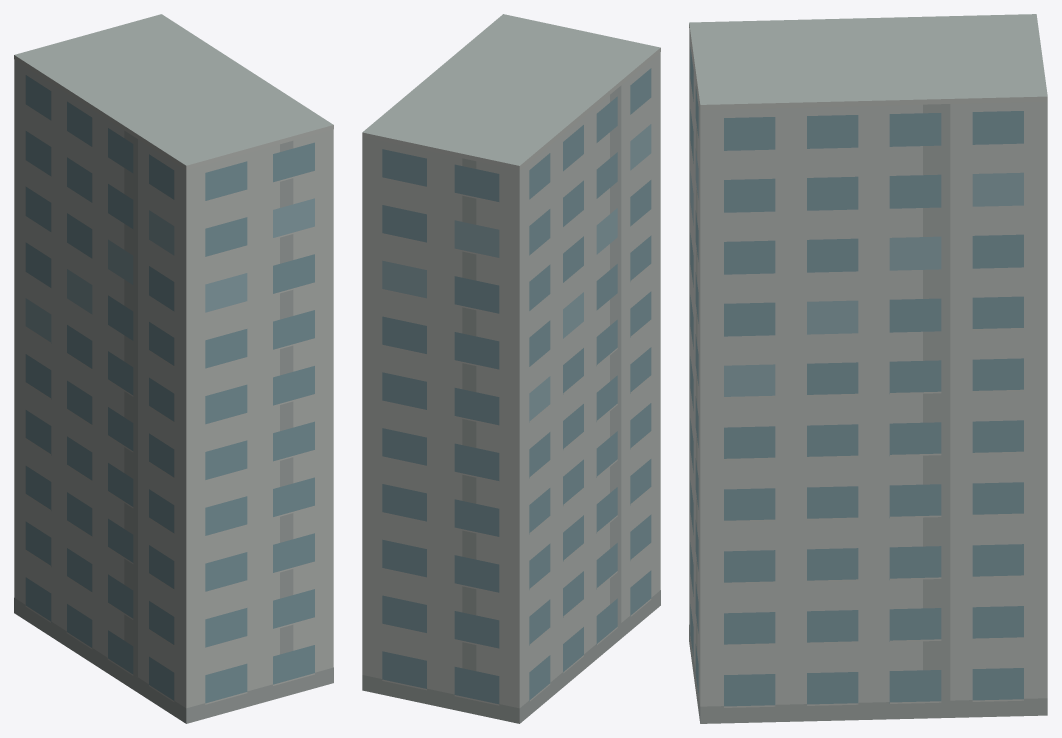
The model's file is residential-d6b64aef-a31e-4603-b0ee-0fd151b18bd7.glb.
The picture shows the model from 3 angles, left to right: view 1: azimuth 30°, elevation 25°; view 2: azimuth 150°, elevation 25°; view 3: azimuth 270°, elevation 25°; orthographic projection. The views are drawn at different scales.
Visible parts, largest first — view 1: residential-d6b64aef-a31e-4603-b0ee-0fd151b18bd7.tmp; view 2: residential-d6b64aef-a31e-4603-b0ee-0fd151b18bd7.tmp; view 3: residential-d6b64aef-a31e-4603-b0ee-0fd151b18bd7.tmp.
Boxes of the visible parts, x1,y1,x2,y2 form: residential-d6b64aef-a31e-4603-b0ee-0fd151b18bd7.tmp: (14,14,333,723); residential-d6b64aef-a31e-4603-b0ee-0fd151b18bd7.tmp: (362,14,660,723); residential-d6b64aef-a31e-4603-b0ee-0fd151b18bd7.tmp: (689,14,1047,723).
Bounding box in the file's own units: 9.46 × 30 × 15.76.
